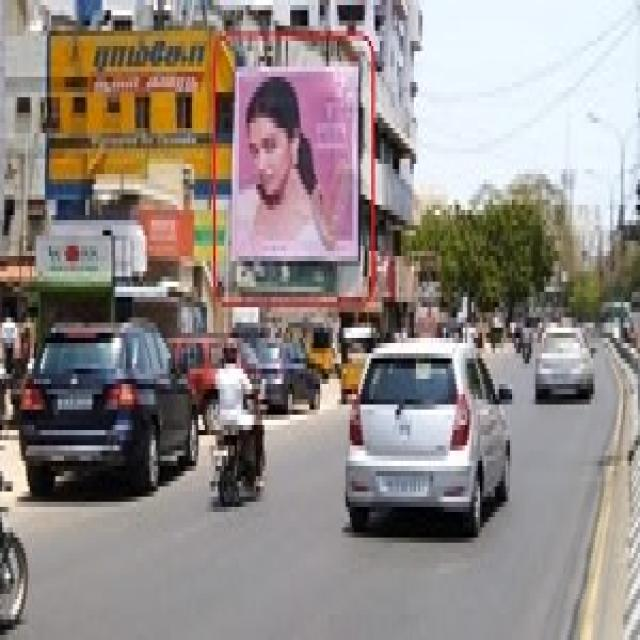Werbetafel frei: (234, 59, 360, 268)
